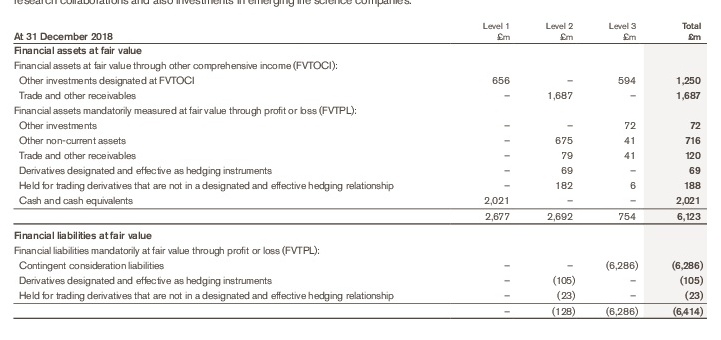table: (0, 0, 721, 340)
